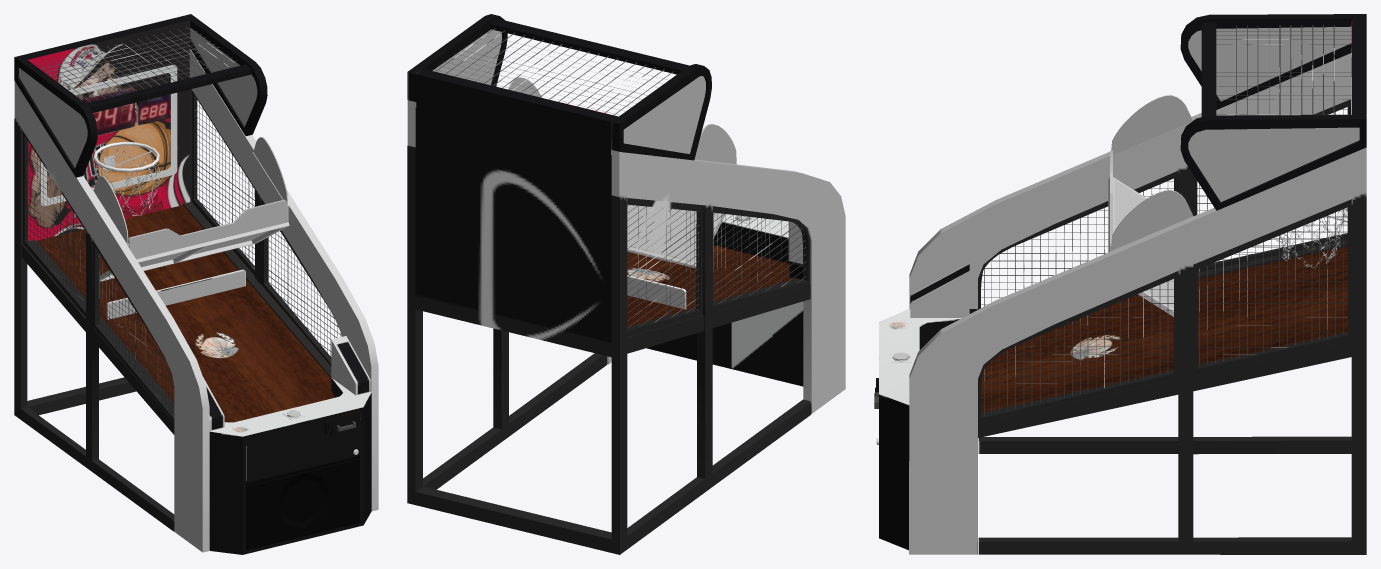
Rendered from LC_3117_Game_MachineE_LOD2.FBX.
The picture shows the model from 3 angles, left to right: view 1: azimuth 30°, elevation 25°; view 2: azimuth 150°, elevation 25°; view 3: azimuth 270°, elevation 25°; orthographic projection. The views are drawn at different scales.
Visible parts, largest first — view 1: LC_3117_Game_MachineE_LOD2; view 2: LC_3117_Game_MachineE_LOD2; view 3: LC_3117_Game_MachineE_LOD2.
Part boxes in pixels (x1,y1,x2,y2): LC_3117_Game_MachineE_LOD2: (14, 14, 378, 554); LC_3117_Game_MachineE_LOD2: (407, 14, 845, 554); LC_3117_Game_MachineE_LOD2: (874, 14, 1366, 554).
Size of the model in its own units: 121 by 235 by 241.
